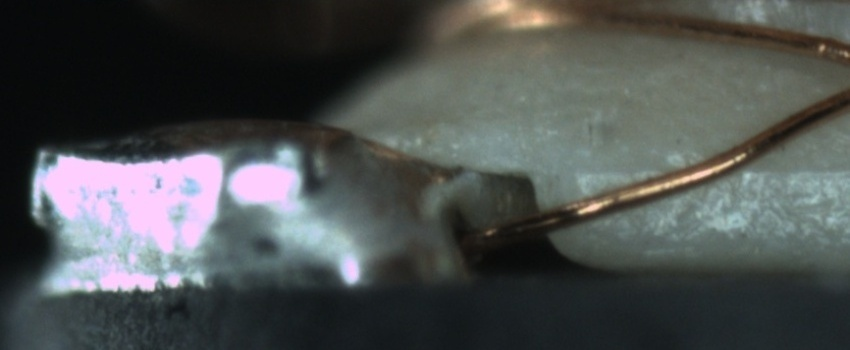DL: (601, 137, 849, 199)
